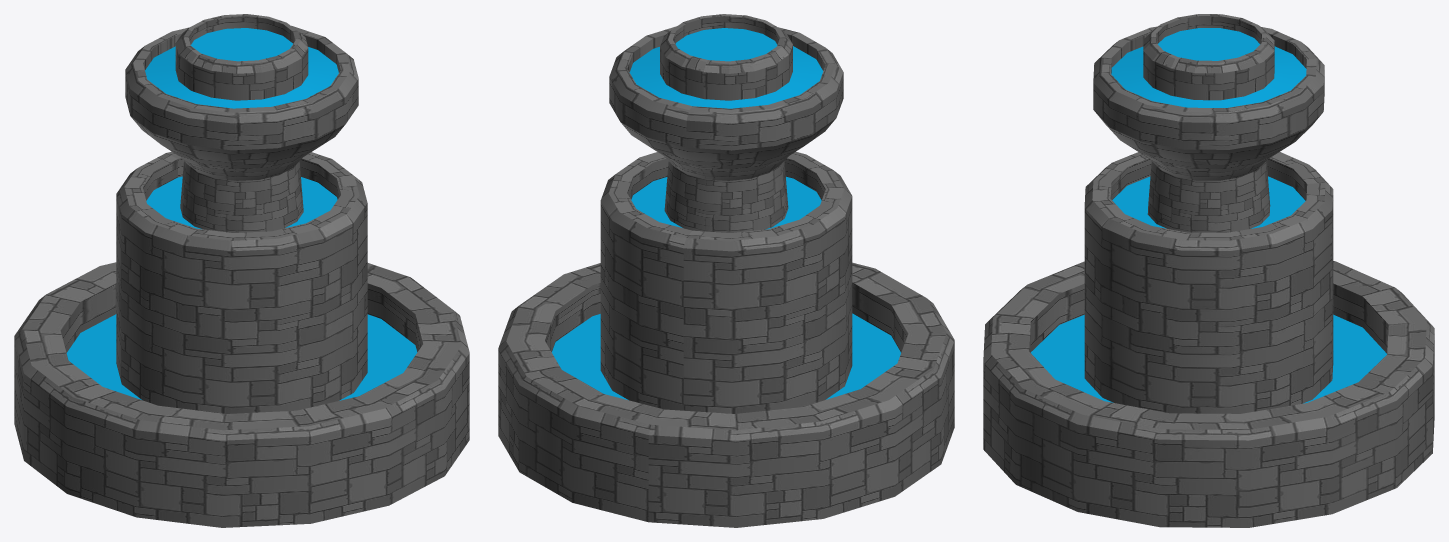
The picture shows the model from 3 angles, left to right: view 1: azimuth 30°, elevation 25°; view 2: azimuth 150°, elevation 25°; view 3: azimuth 270°, elevation 25°; orthographic projection.
Parts seen in each view (by area): view 1: Fountain; view 2: Fountain; view 3: Fountain.
Boxes of the visible parts, left/top/right/bottom form: Fountain: left=14, top=14, right=469, bottom=527; Fountain: left=498, top=14, right=954, bottom=527; Fountain: left=983, top=14, right=1434, bottom=527.
Size of what is drawn, in the model's own units: 0.7276 by 0.7008 by 0.7276.
Materials: 2 (1 with a texture image).
